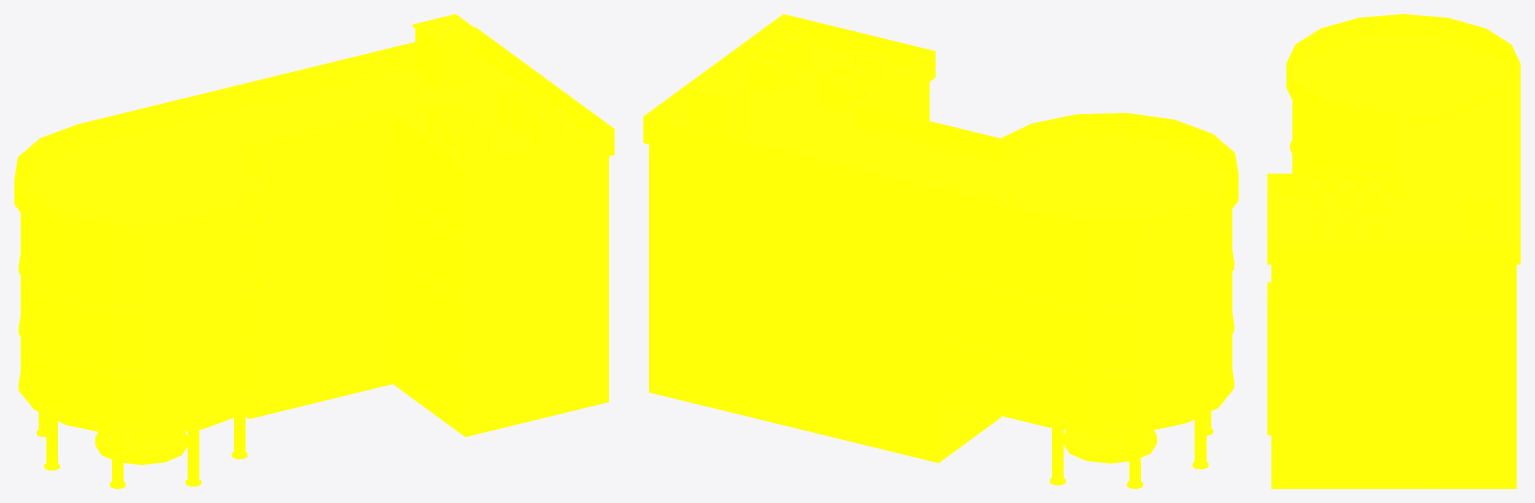
File: building-mall.glb
3 views of the same model, side by side, from view 1: azimuth 30°, elevation 25°; view 2: azimuth 150°, elevation 25°; view 3: azimuth 270°, elevation 25° (orthographic). The views are drawn at different scales.
Visible parts, largest first — view 1: building-mall; view 2: building-mall; view 3: building-mall.
Part boxes in pixels (box(x1,y1,x2,y2)): building-mall: box(14, 14, 614, 488); building-mall: box(643, 14, 1238, 488); building-mall: box(1267, 14, 1520, 488).
Size of the model in its own units: 28.4 by 16.1 by 13.4.
Materials: 1 (1 with a texture image).
